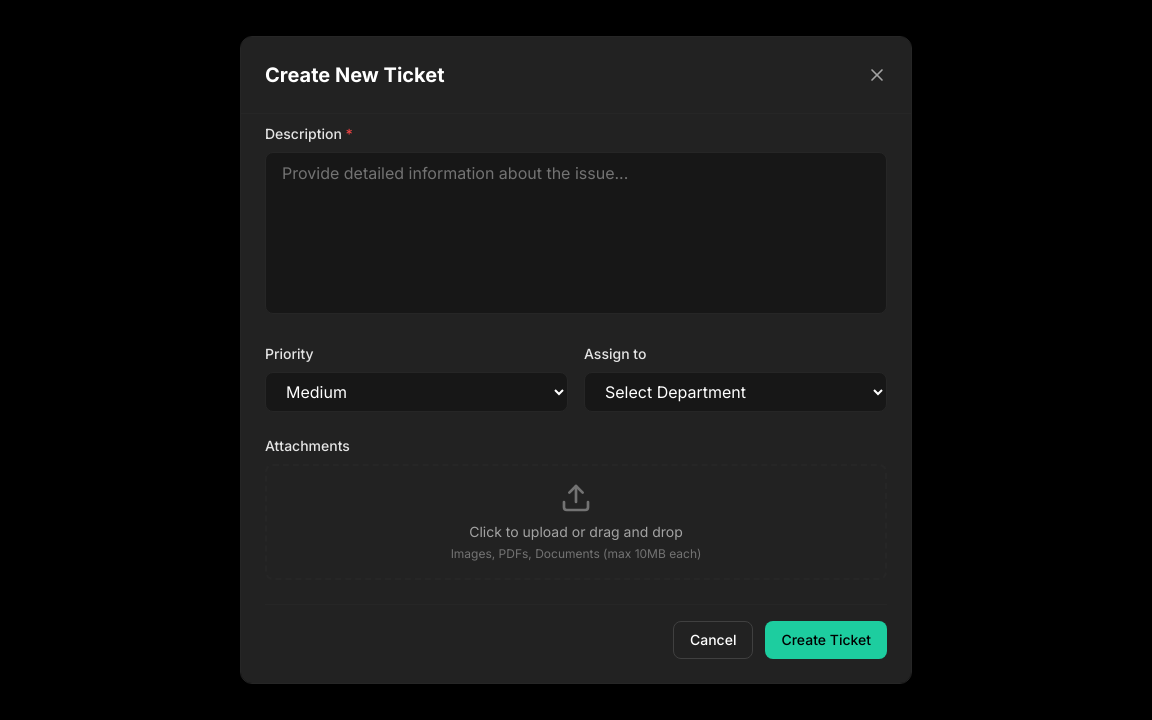
Test: TicketForm › shows validation errors for empty required fields
(page scrolled)
Click the button "Create Ticket".
click(826, 640)  # box [765, 621, 887, 659]
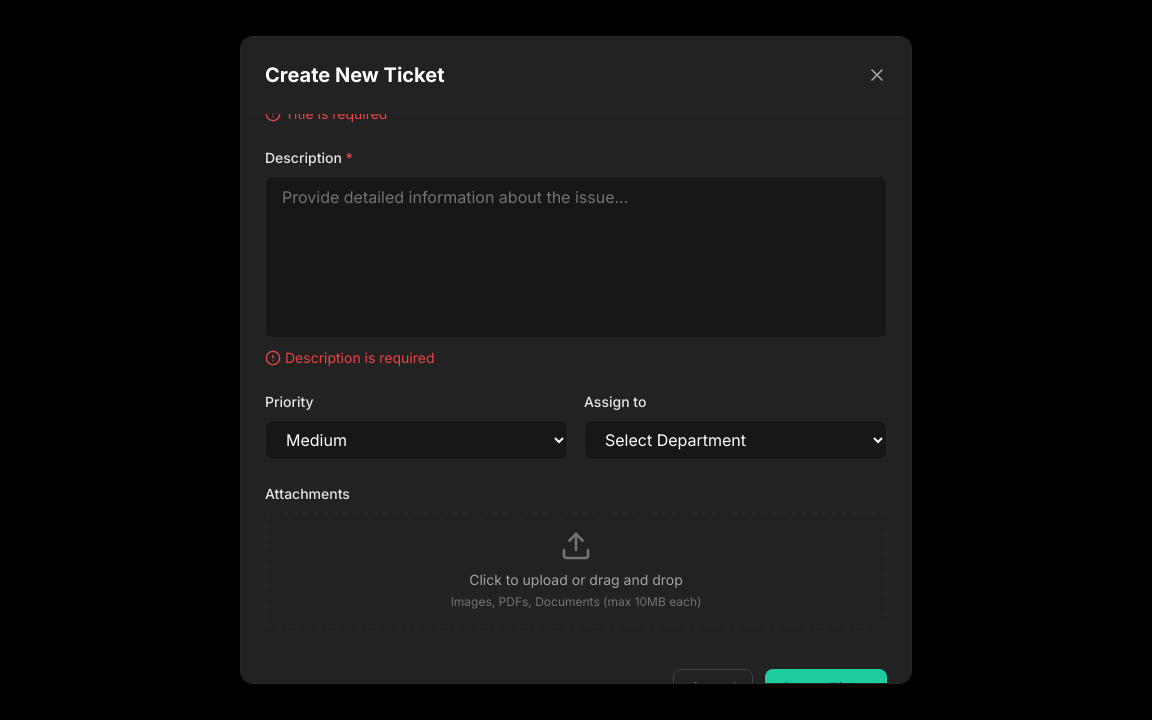
expect the text "Title is required" is shown: met, box [265, 105, 387, 122]
expect the text "Description is required" is shown: met, box [265, 349, 434, 366]
